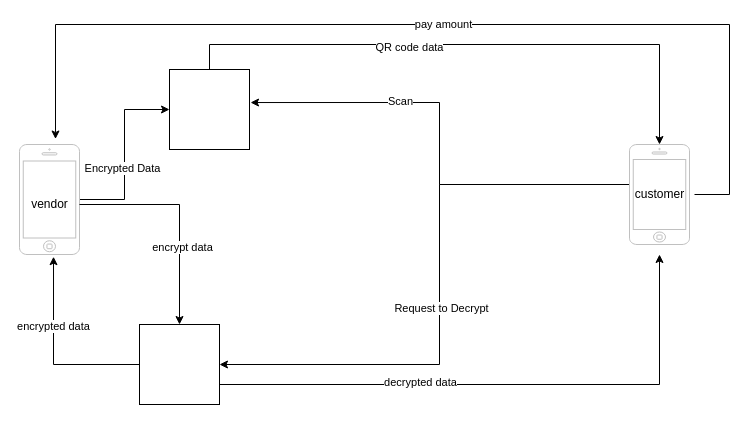
Image size: 756x422. Some labels were removed from this diagram. Each missing label, with the centre of its shape:
"QPey server" goes at (x=179, y=364).
"QRcode" goes at (x=209, y=109).
